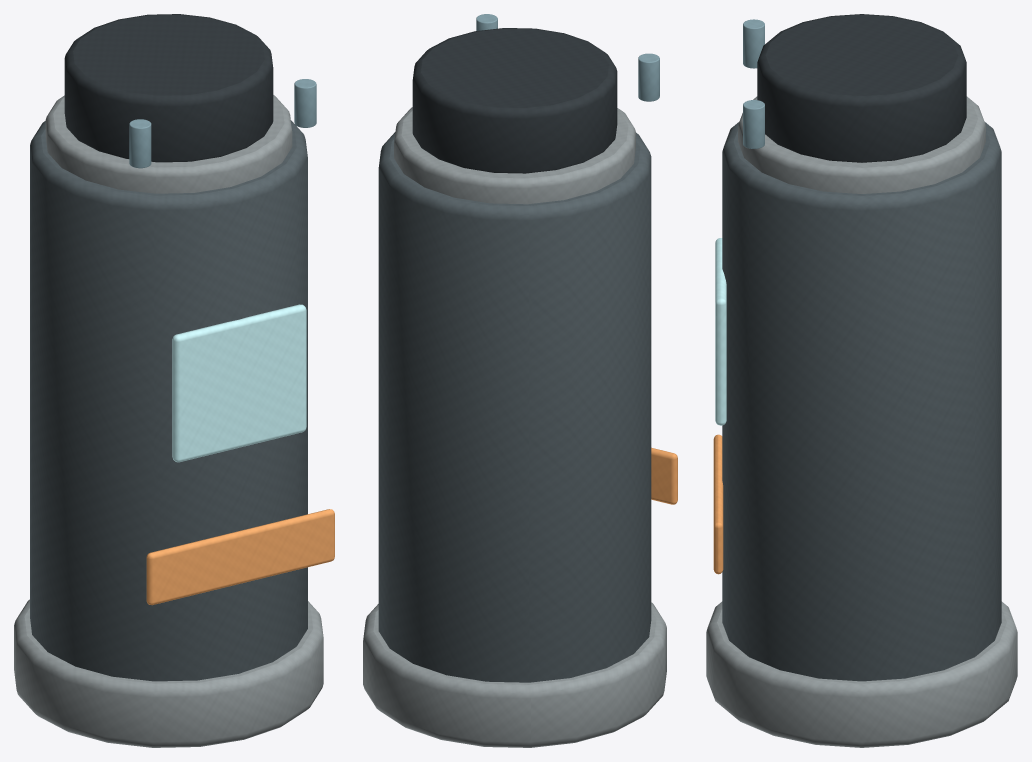
File: SpecimenCanister.glb
3 views of the same model, side by side, from view 1: azimuth 30°, elevation 25°; view 2: azimuth 150°, elevation 25°; view 3: azimuth 270°, elevation 25° (orthographic).
Visible parts, largest first — view 1: SpecimenCanister_Mesh; view 2: SpecimenCanister_Mesh; view 3: SpecimenCanister_Mesh.
Part boxes in pixels (bbox=[...]): SpecimenCanister_Mesh: bbox=[14, 14, 334, 747]; SpecimenCanister_Mesh: bbox=[363, 14, 677, 747]; SpecimenCanister_Mesh: bbox=[706, 14, 1017, 747].
Size of the model in its own units: 0.49 by 1.1 by 0.49.
6 materials, 6 textured.
